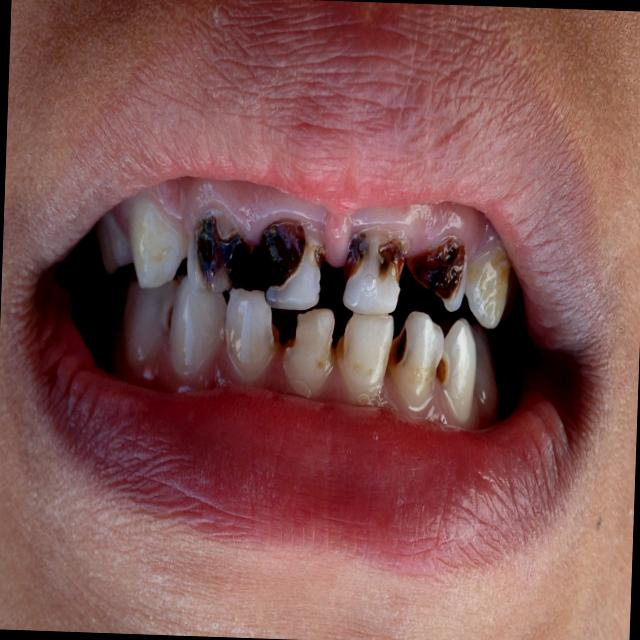caries: (257, 216, 326, 312), (180, 209, 248, 295), (388, 315, 448, 409), (340, 227, 406, 310), (128, 198, 184, 286), (222, 288, 278, 376), (407, 232, 468, 310), (336, 312, 390, 398), (120, 276, 174, 362), (282, 304, 334, 390), (462, 243, 511, 333), (434, 315, 476, 413)
